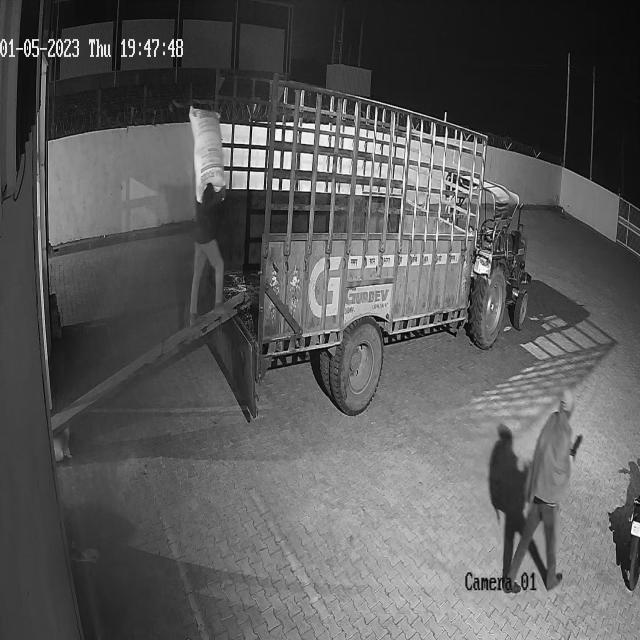sack: (189, 107, 225, 200)
